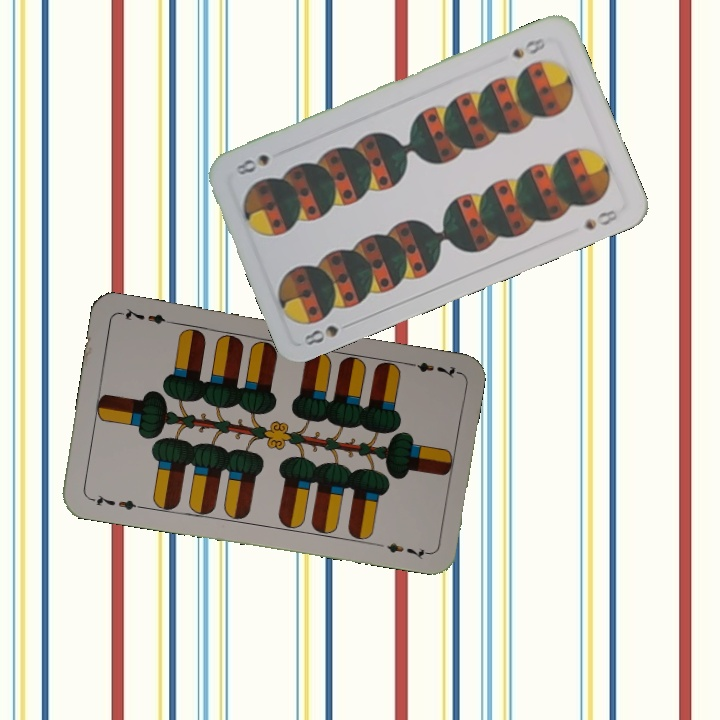E7: (401, 357, 460, 380), (86, 490, 144, 513)
S8: (299, 317, 357, 348), (508, 34, 548, 61)
